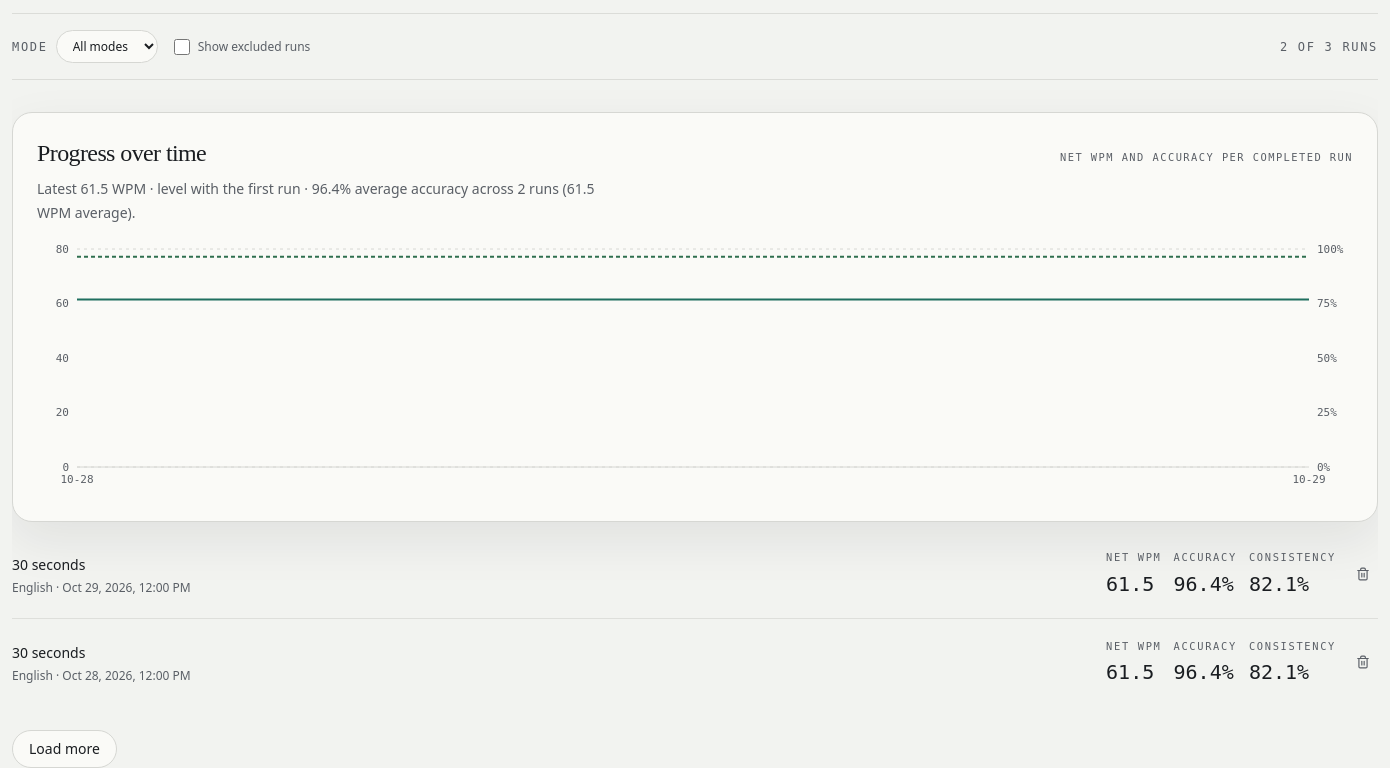
history page › loads older runs without duplicating a row
The image size is (1390, 768).
(page scrolled)
Expected: the text "2 of 3 runs" is shown, [1280,38,1378,54]
What coordinates should you click on to do the following:
click the button "Load more"
I would click on:
 (64, 749)
Its box is [12,730,117,767].
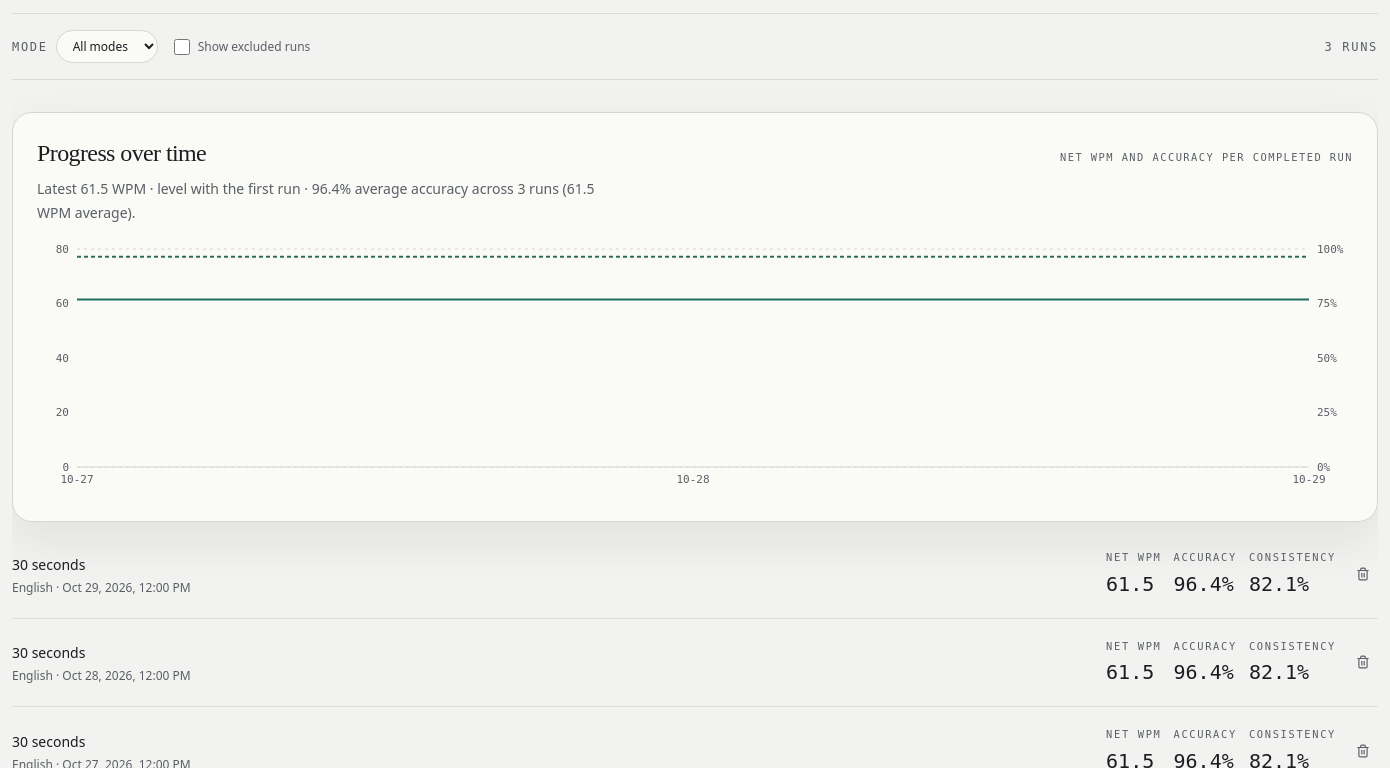
Expected: the number of links "30 seconds" is 3, [12,555,85,574]; [12,643,85,662]; [12,732,85,751]
Expected: the button "Load more" is gone
